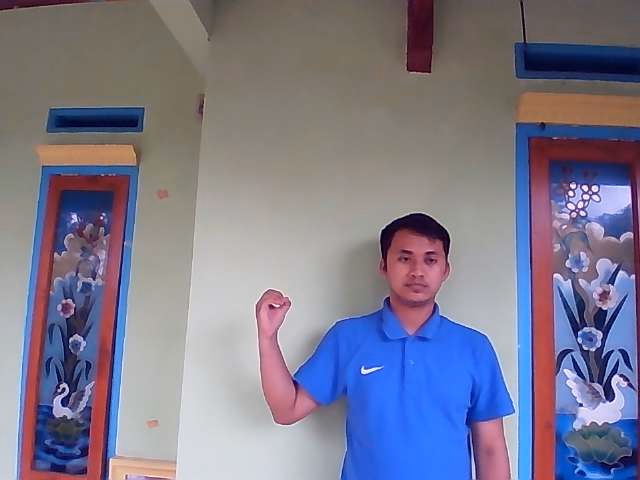O: (253, 288, 293, 340)
